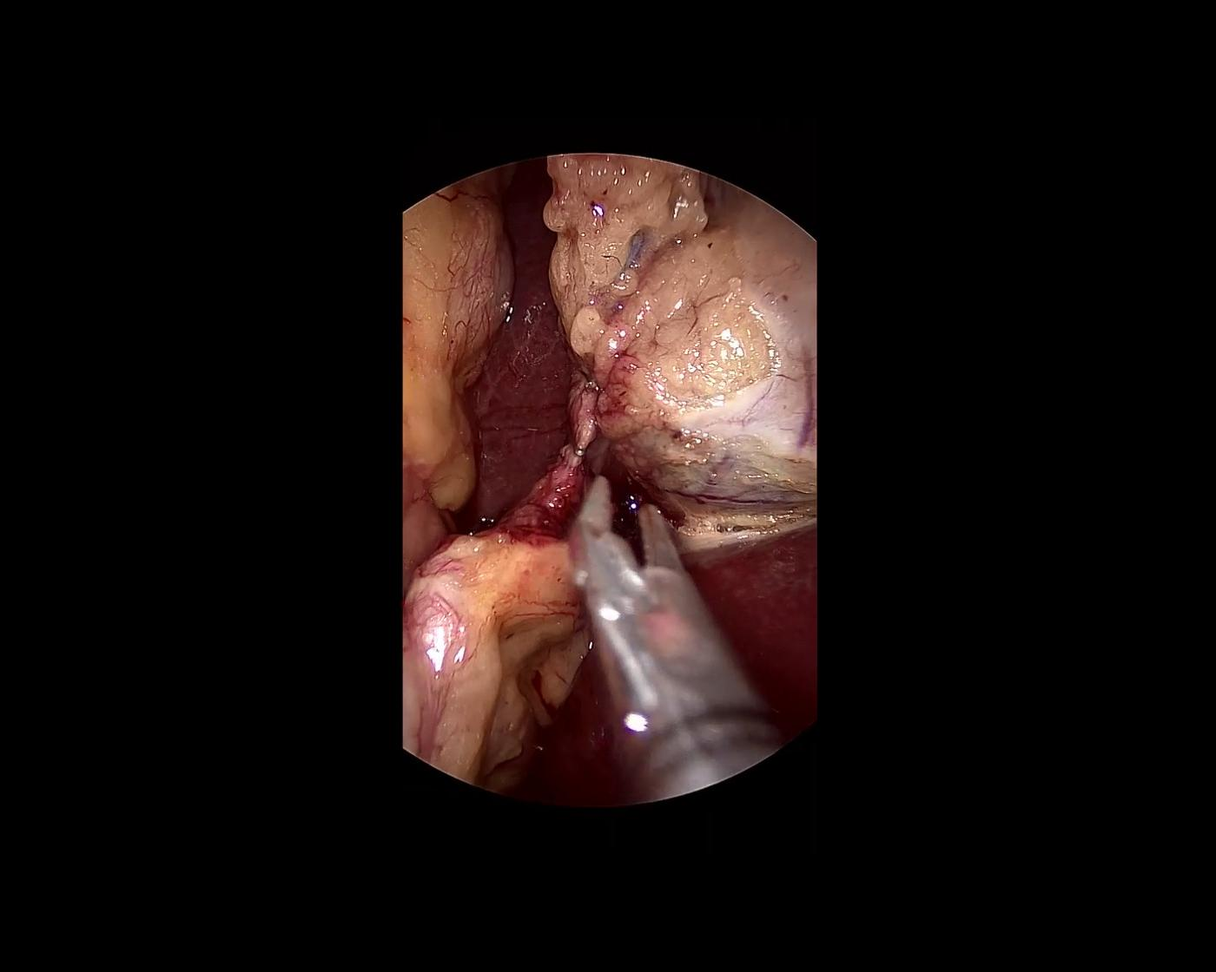Gallbladder: (544, 154, 815, 517)
Liver: (453, 153, 592, 545), (679, 523, 816, 755)
